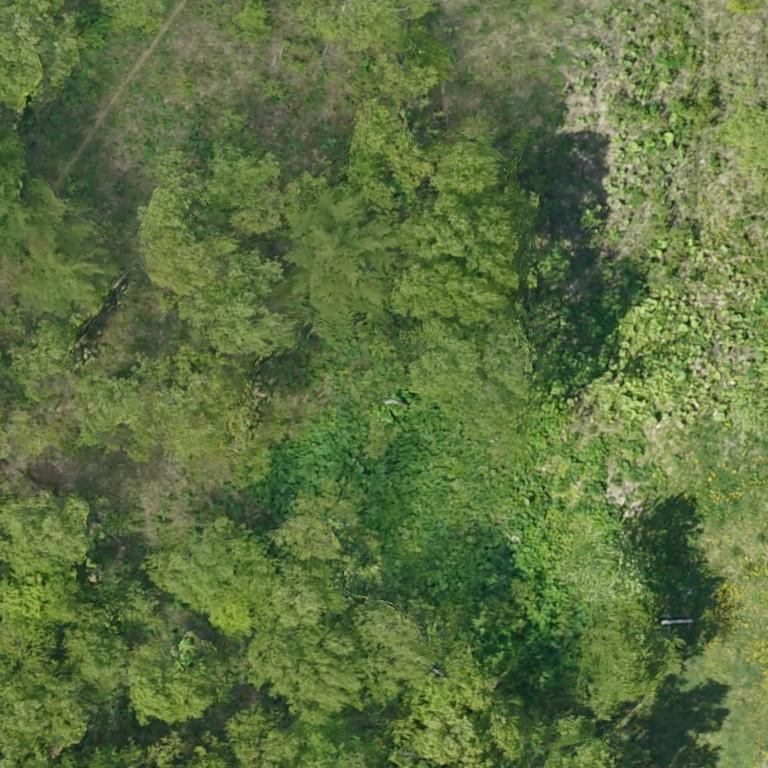hogweed: (257, 408, 515, 601)
